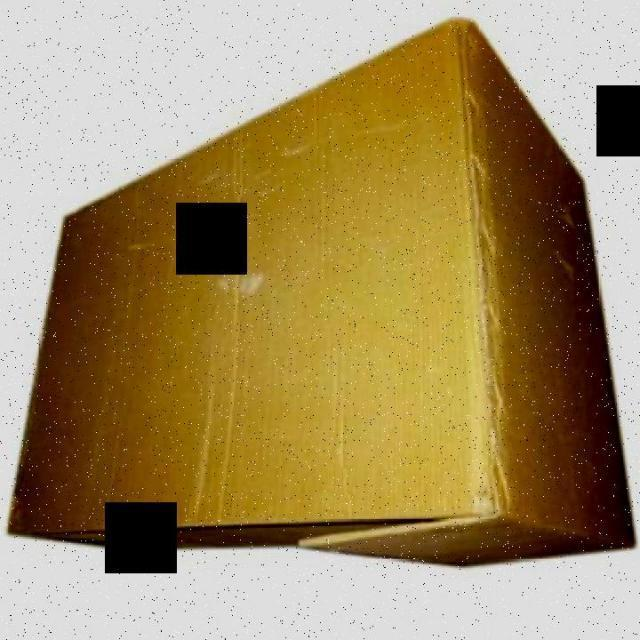box: (8, 16, 638, 582)
